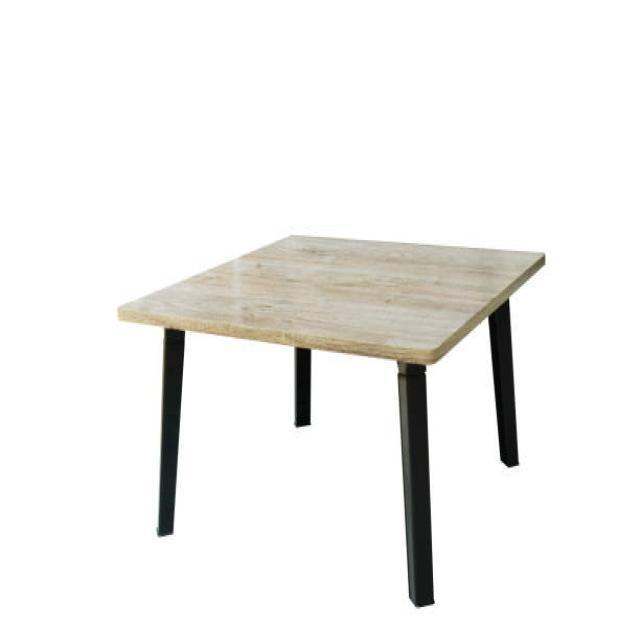table: (116, 230, 546, 608)
